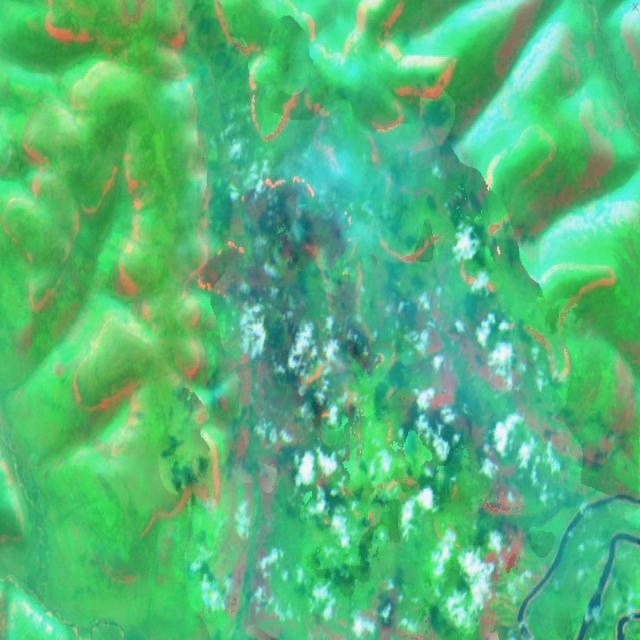fire: (201, 161, 444, 417)
